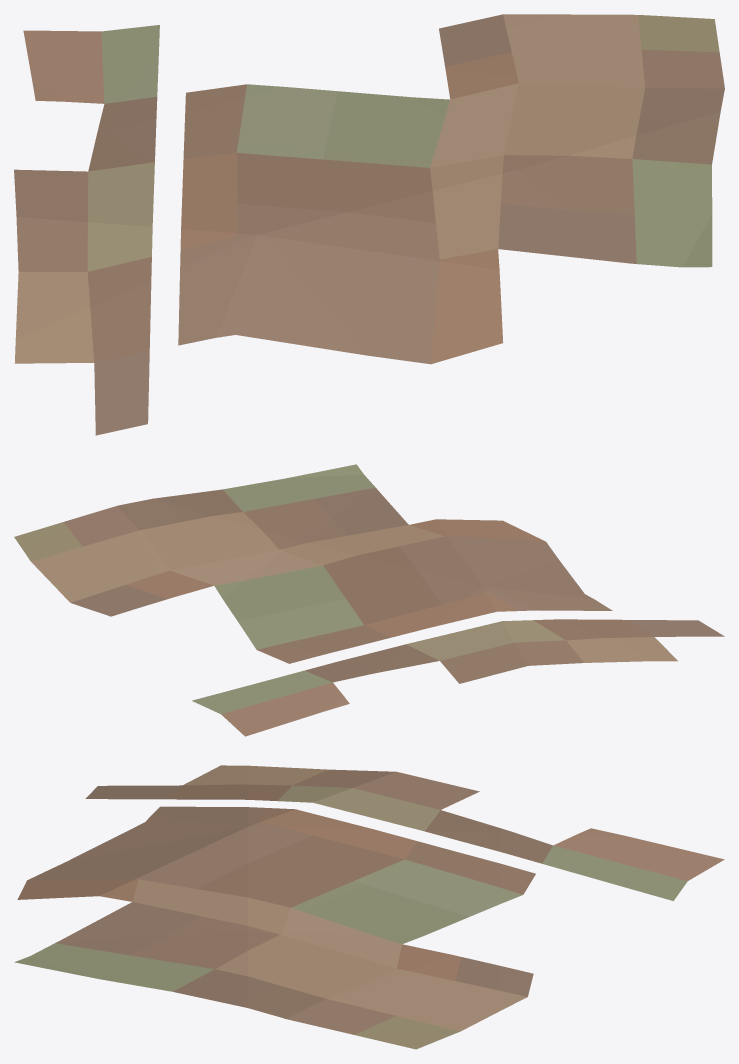
Rendered from farm_-26_-27_soil.glb.
The picture shows the model from 3 angles, top to bottom: view 1: azimuth 30°, elevation 25°; view 2: azimuth 150°, elevation 25°; view 3: azimuth 270°, elevation 25°; orthographic projection. The views are drawn at different scales.
Visible parts, largest first — view 1: geometry_0; view 2: geometry_0; view 3: geometry_0.
Part boxes in pixels (left/top/right/bottom): geometry_0: left=14, top=14, right=724, bottom=435; geometry_0: left=14, top=464, right=724, bottom=736; geometry_0: left=14, top=765, right=724, bottom=1049.
Bounding box in the file's own units: 251 × 24.85 × 226.
